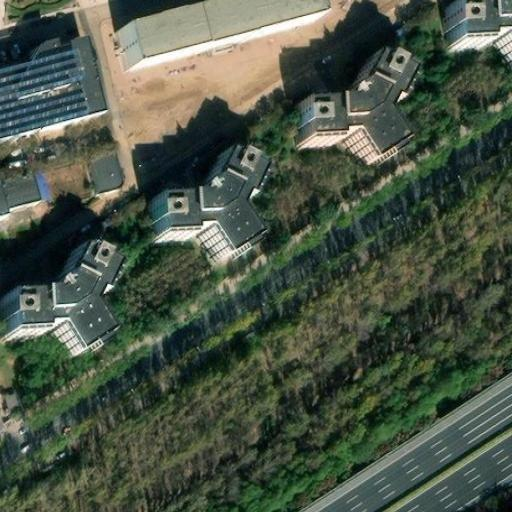building: (114, 0, 319, 64), (146, 147, 255, 256), (293, 55, 402, 164), (0, 31, 106, 139), (0, 247, 105, 356), (442, 0, 512, 64), (0, 168, 51, 217), (85, 144, 127, 193)
